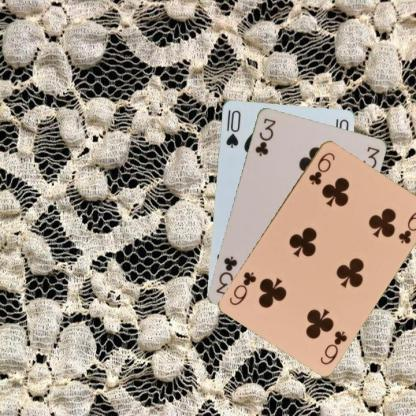10s: (223, 107, 242, 149)
3c: (252, 115, 277, 157)
6c: (318, 328, 349, 366), (306, 149, 336, 186)
